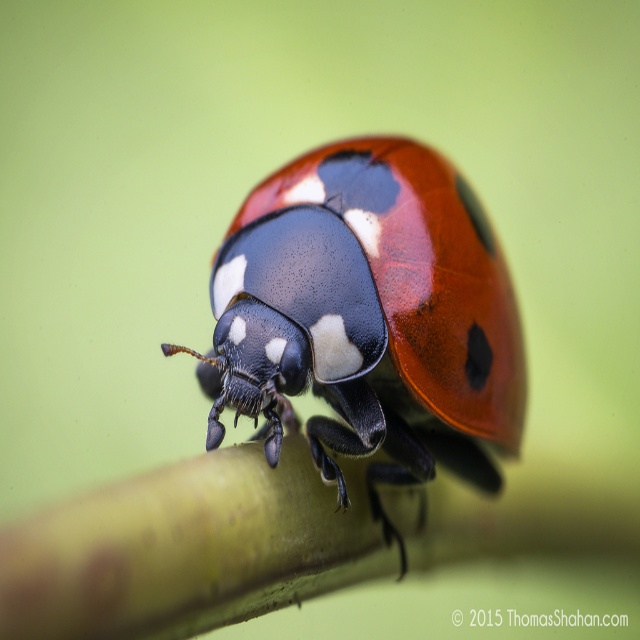Ladybug: (162, 133, 531, 574)
